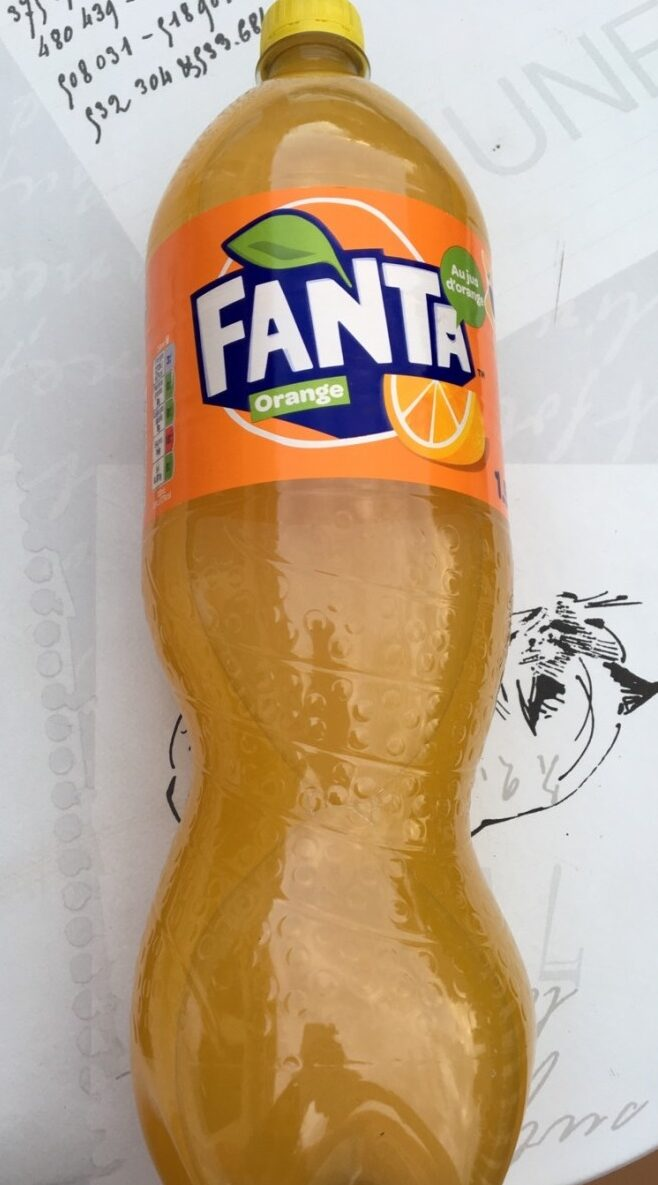Fanta: (146, 1, 519, 1178)
